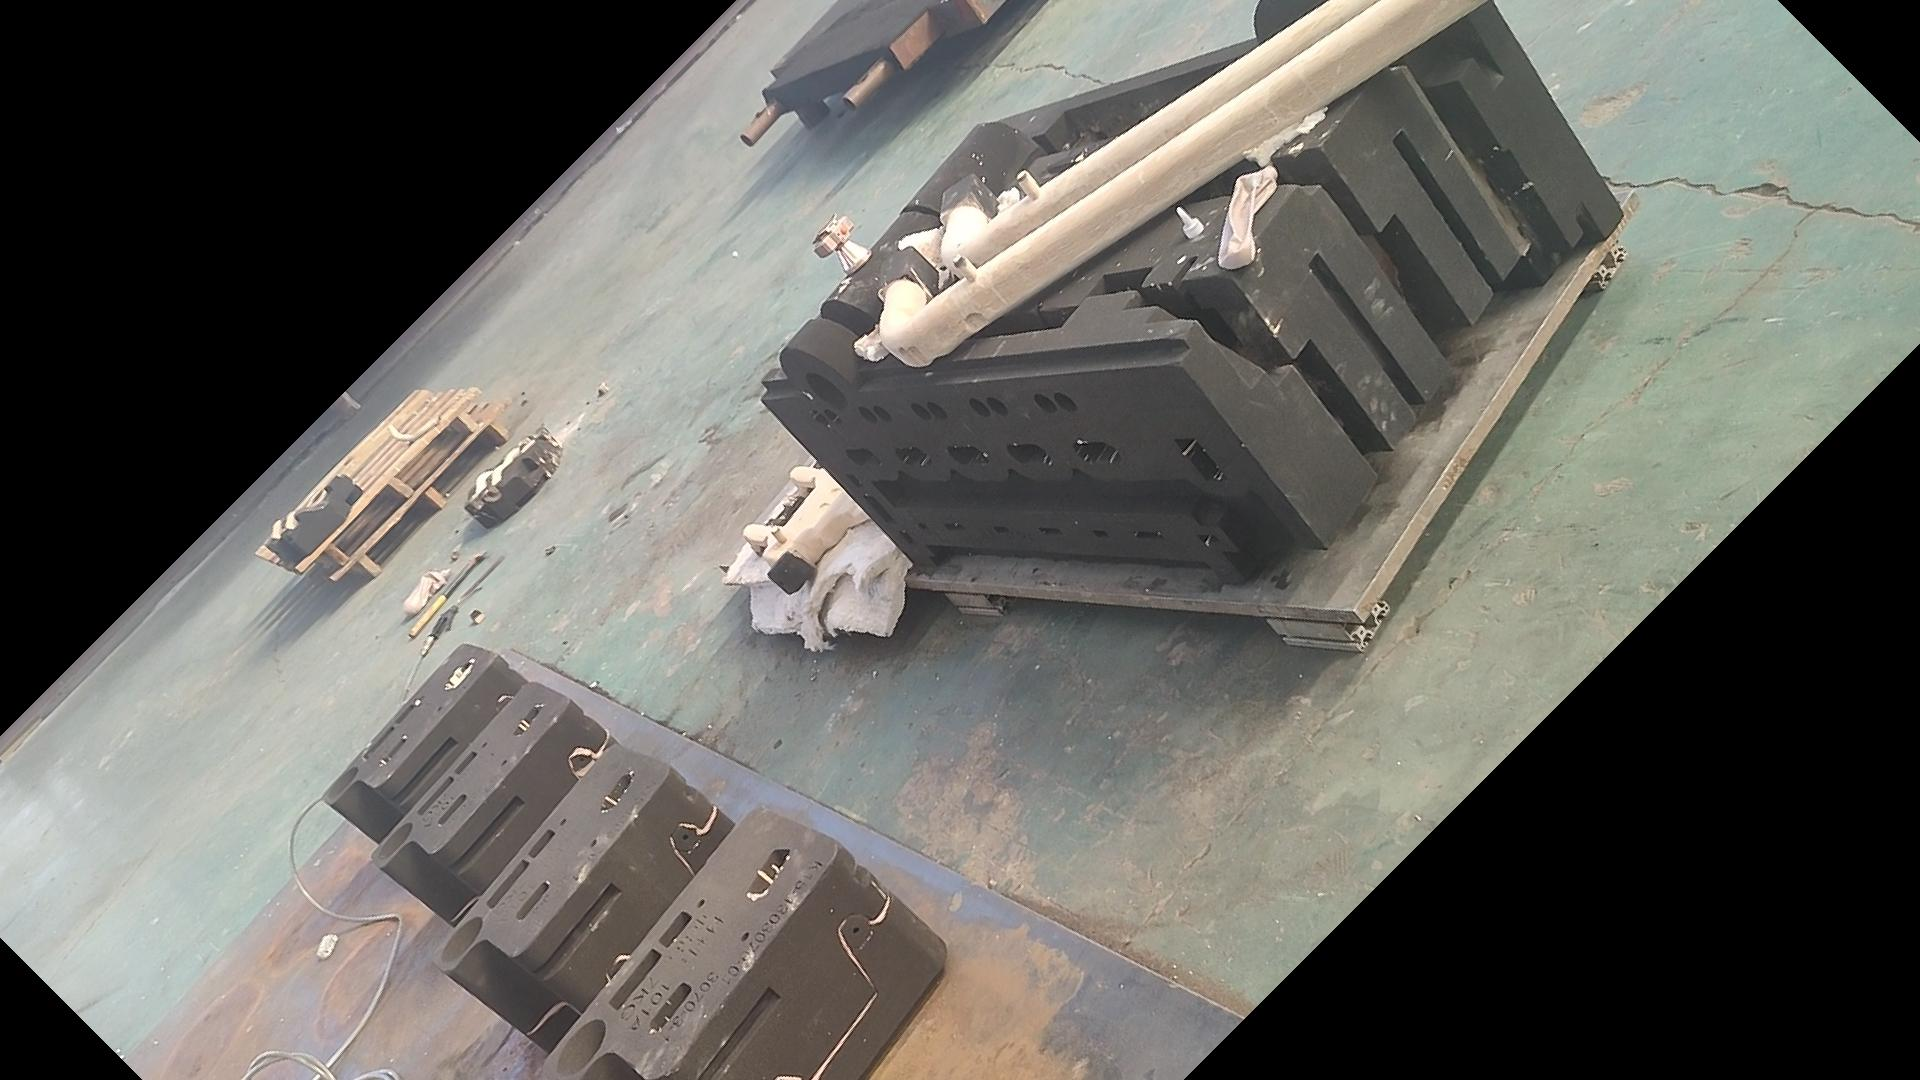pouring hole: (556, 1019, 607, 1077), (439, 914, 483, 963), (804, 372, 847, 409), (378, 822, 411, 862), (326, 766, 357, 803)
